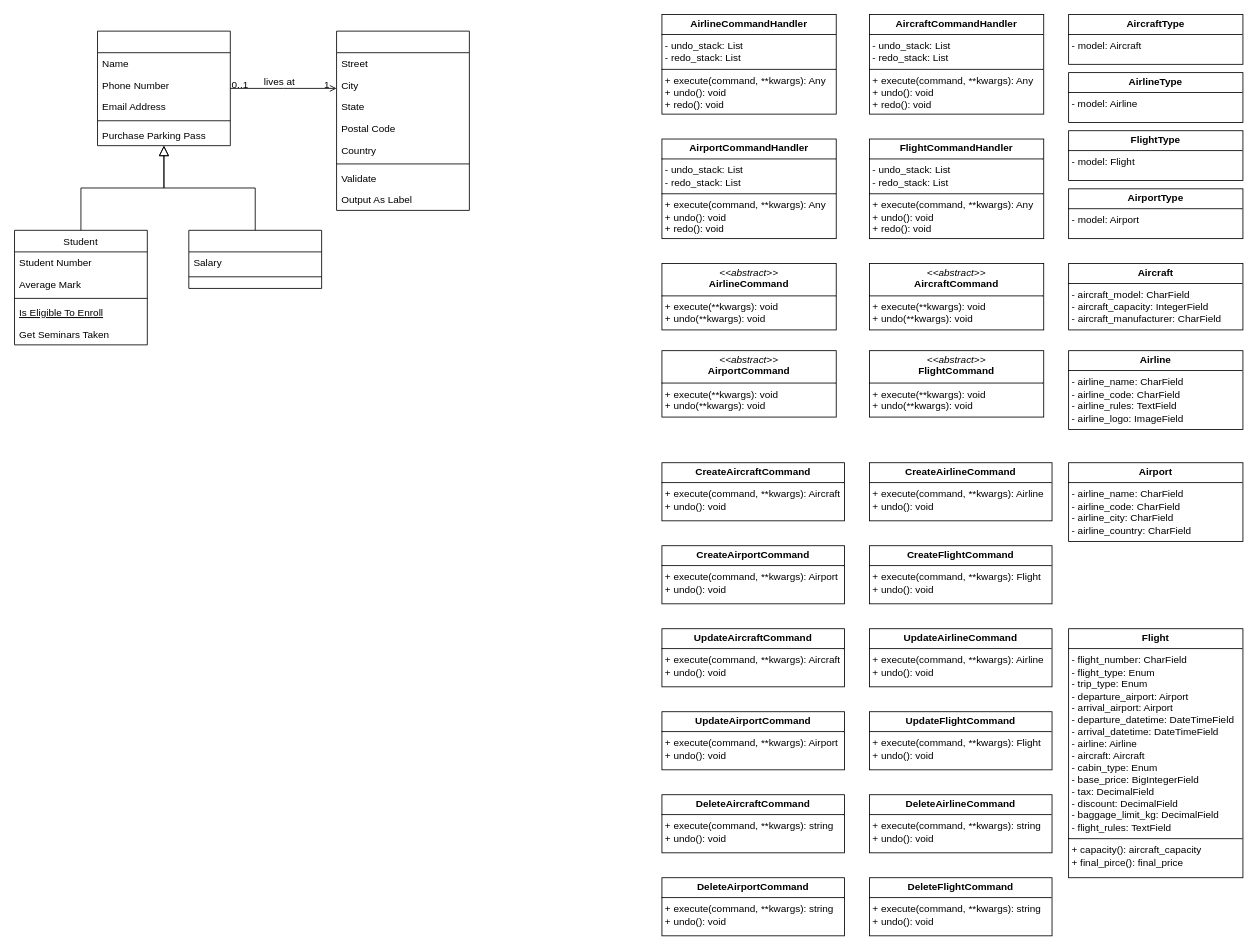
Image size: 1257x950. Some labels were removed from this diagram. The shapes that lost their labels are listed below. From the top down, each one's box as (x1, y1, x2, y2) in pixels, then its label:
(97, 30, 230, 146): Person
(336, 30, 469, 210): Address
(188, 229, 322, 288): Professor
